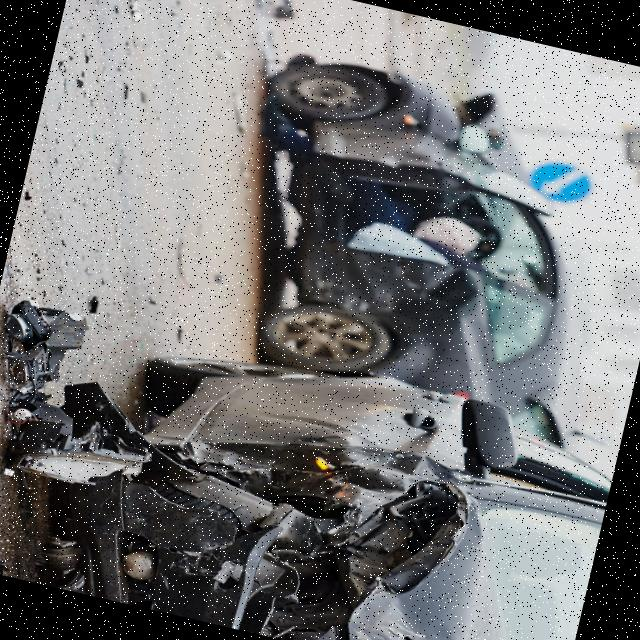Head Light: (12, 367, 485, 640)
